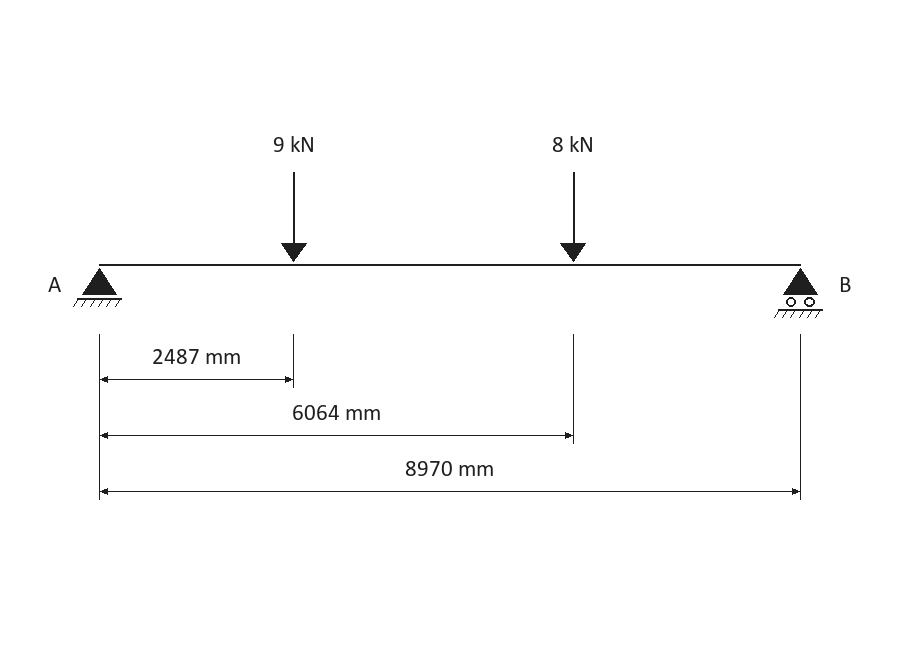pin_support: (73, 268, 122, 307)
point_load: (281, 172, 307, 262), (560, 172, 586, 262)
roller_support: (774, 268, 823, 318)
